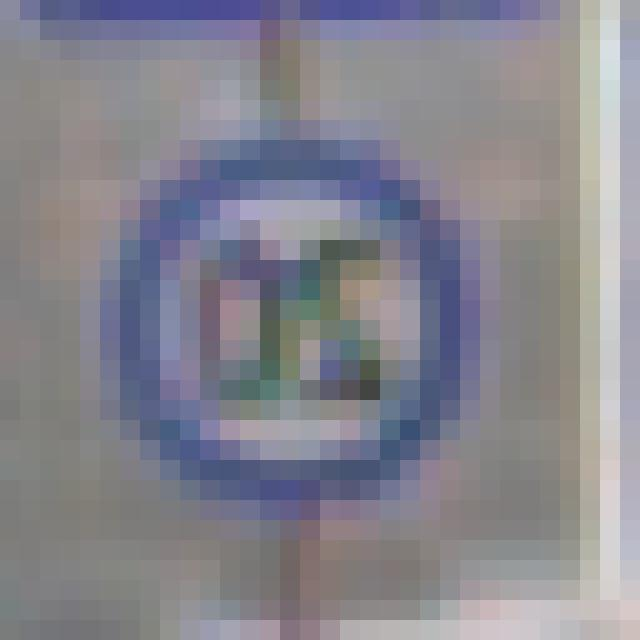SPEED LIMIT 20: (99, 153, 471, 496)
